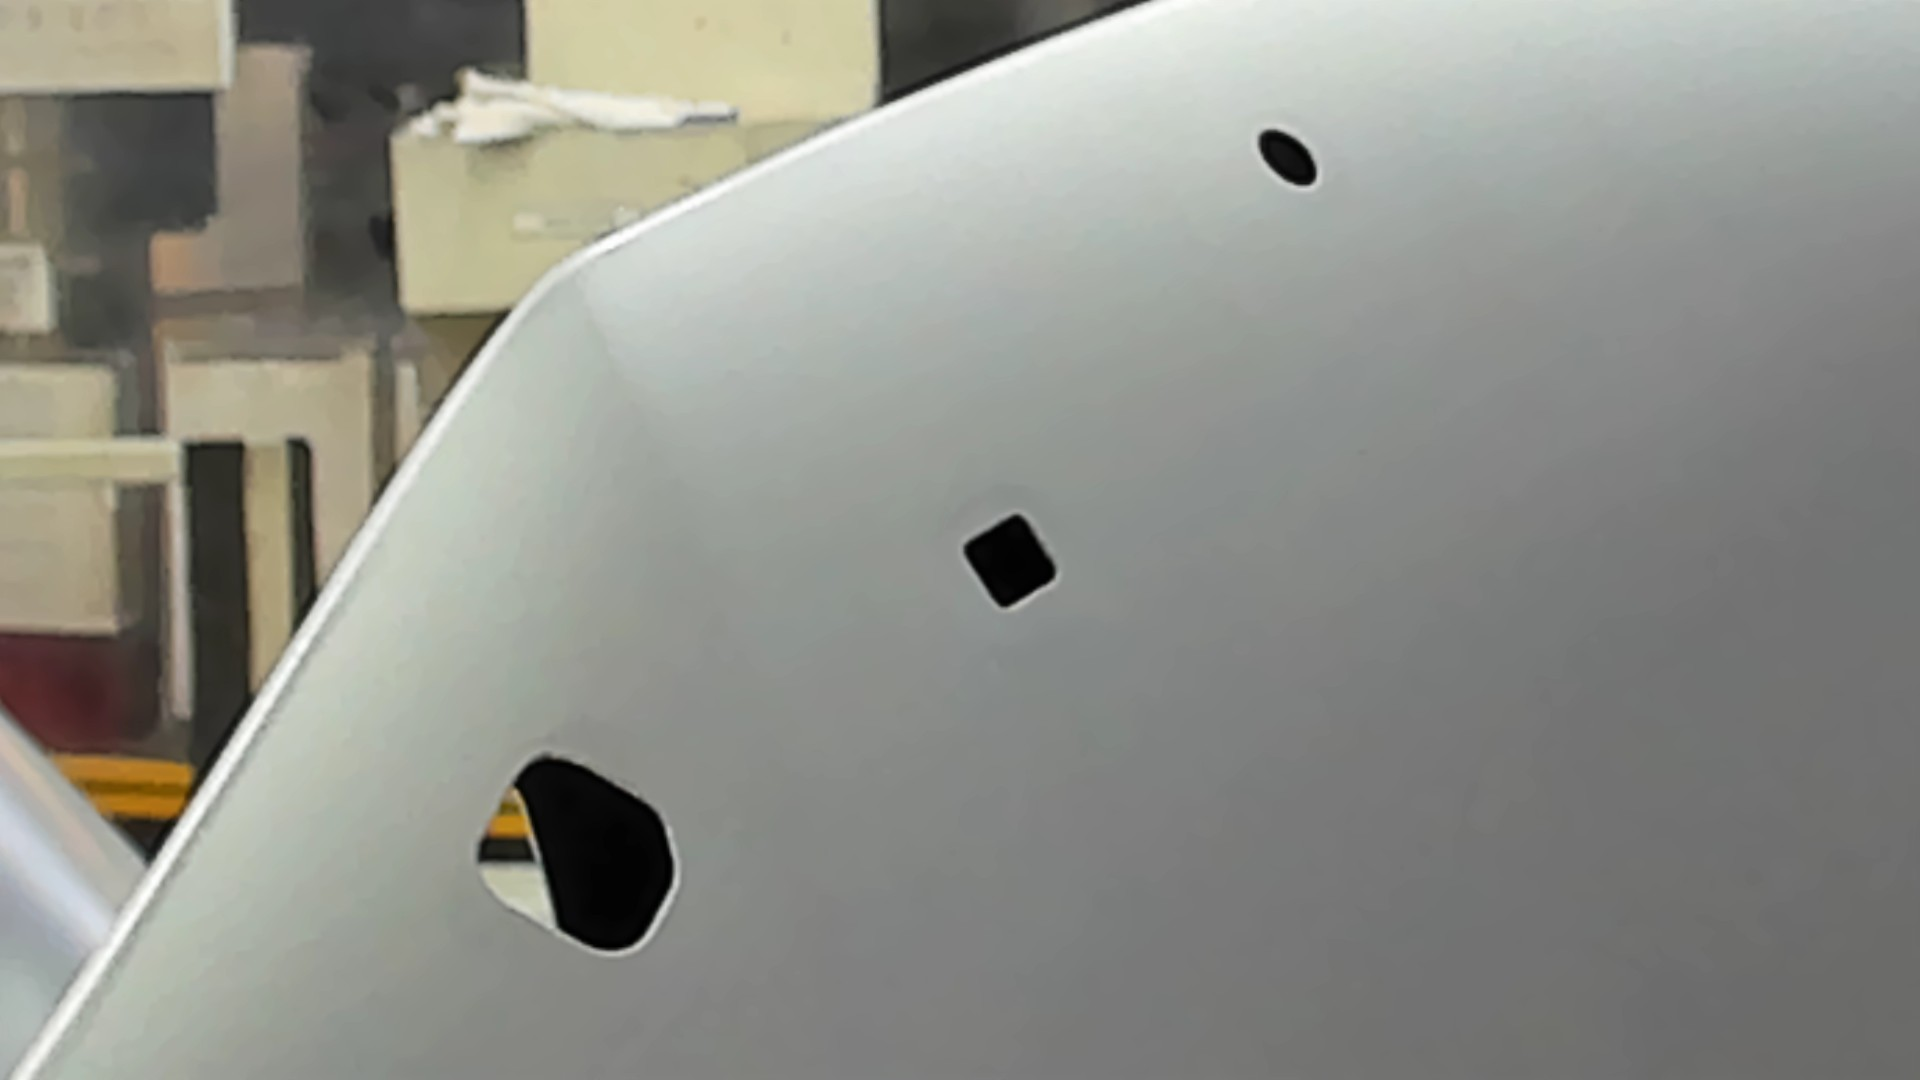chico: (1254, 123, 1321, 190)
grande: (468, 749, 688, 963)
mediano: (955, 505, 1060, 615)
